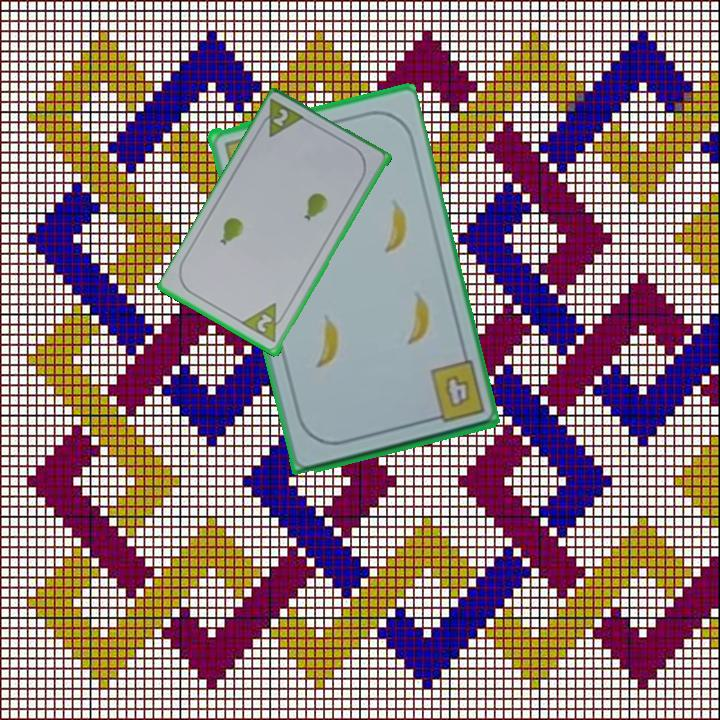2p: (254, 96, 309, 141), (253, 310, 276, 335)
4b: (422, 357, 487, 426)
